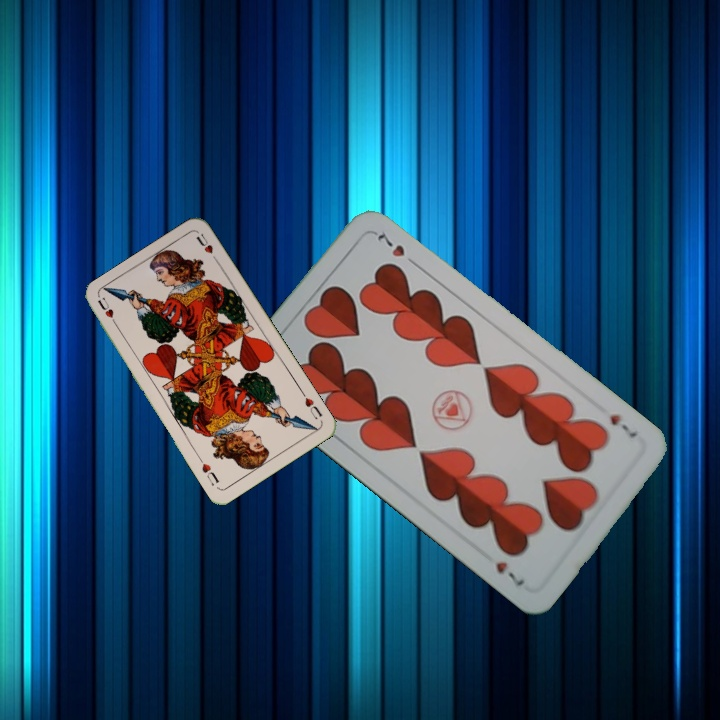H7: (605, 410, 640, 442)
HU: (93, 294, 121, 331), (297, 388, 325, 422)
